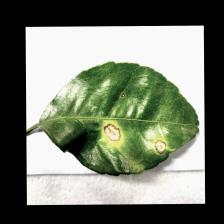canker: (85, 91, 182, 160)
